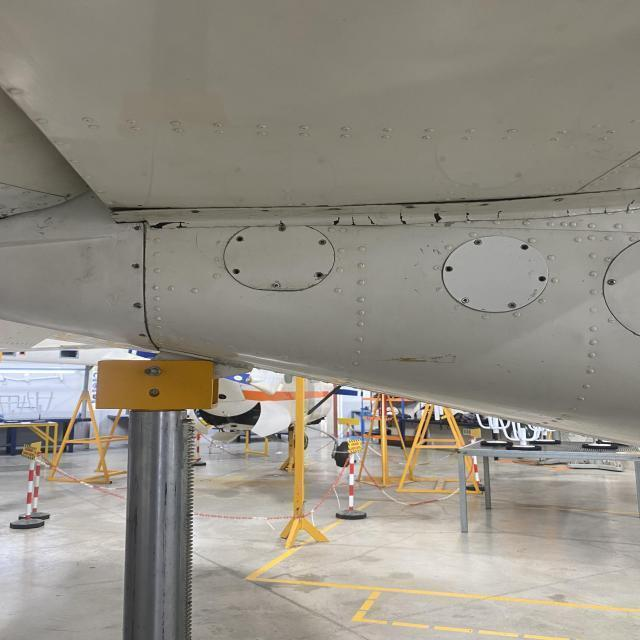Missing_Fastener: (536, 275, 546, 282), (315, 271, 324, 278), (236, 236, 246, 242), (444, 266, 454, 272), (520, 244, 529, 250), (232, 268, 240, 274), (132, 263, 140, 269), (404, 206, 416, 210), (140, 333, 146, 338), (480, 204, 490, 206)
